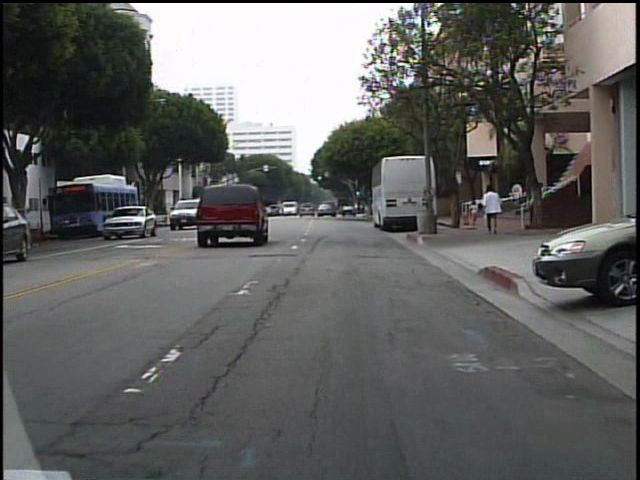person: (482, 182, 507, 237), (467, 195, 480, 227)
